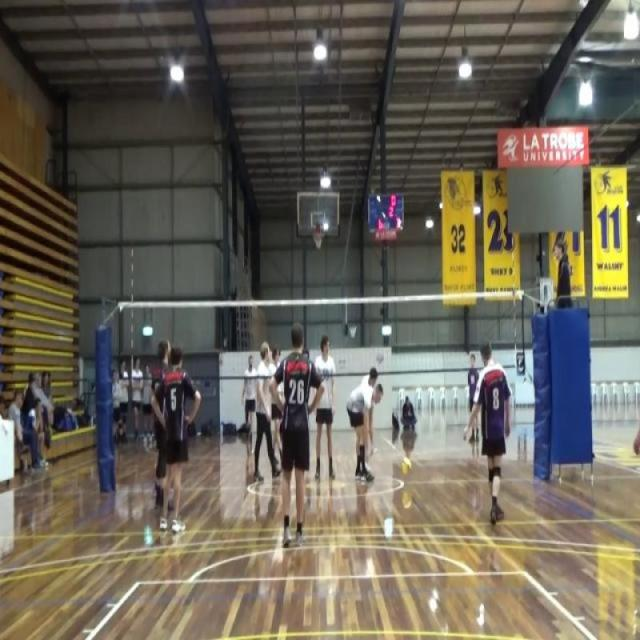volleyball: (401, 458, 412, 475)
